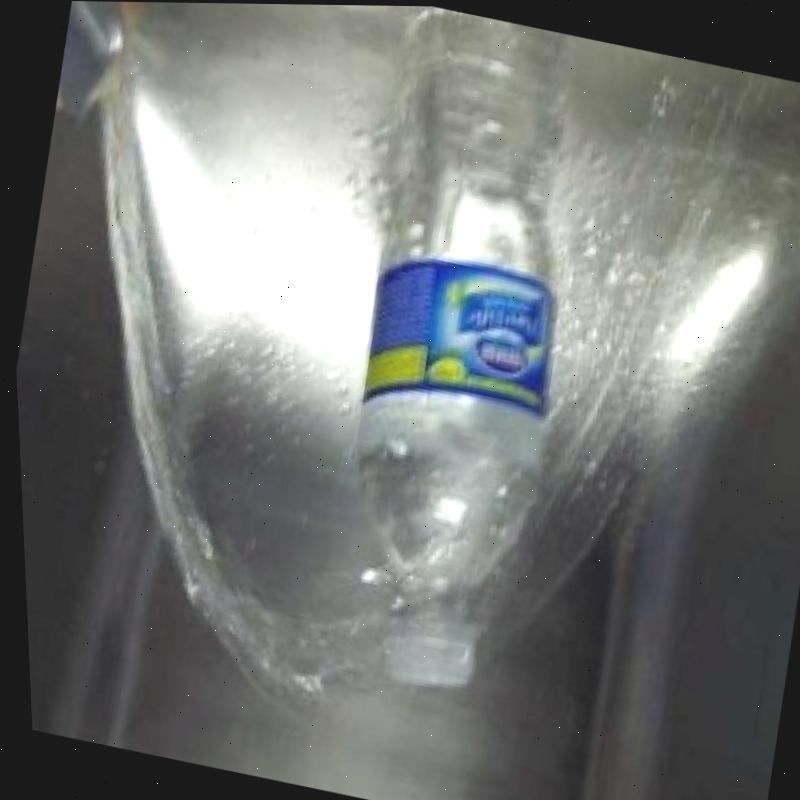botella: (267, 56, 620, 709)
